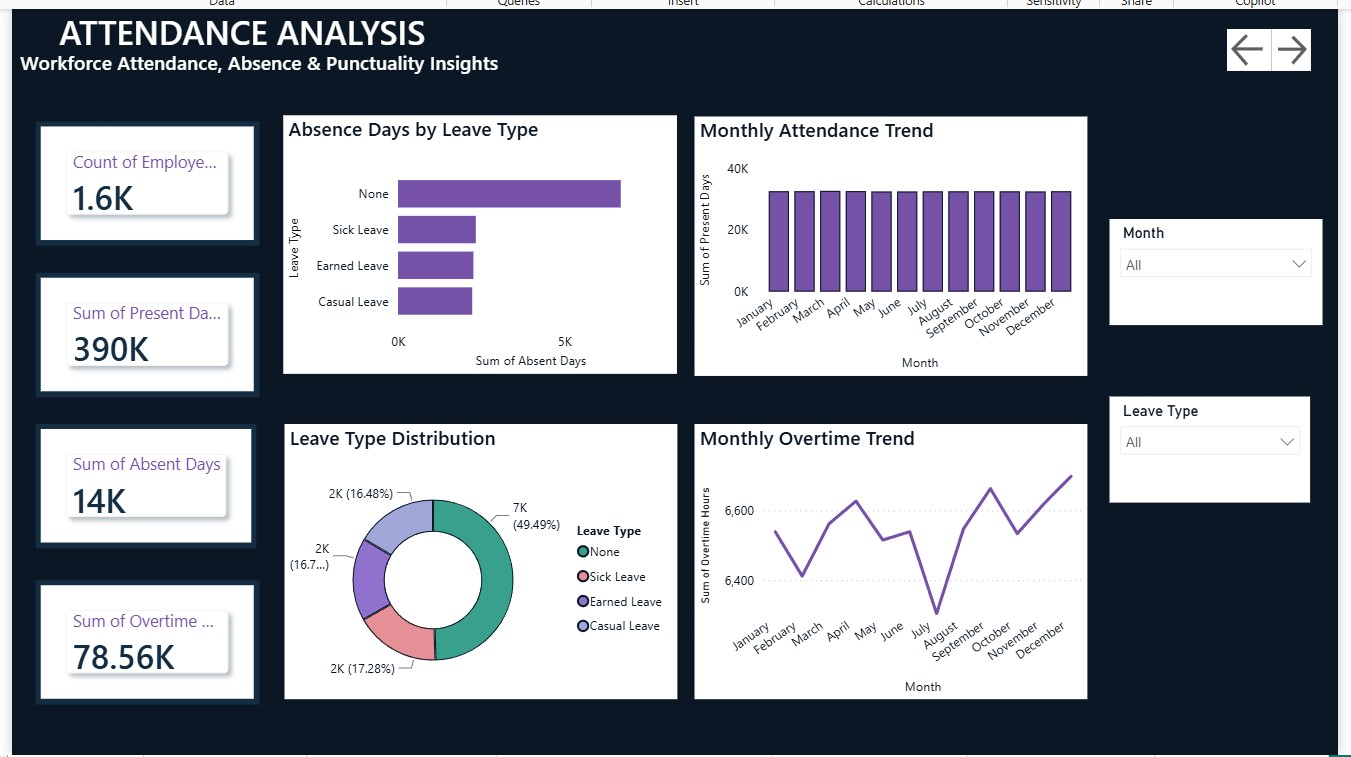

What the dashboard file says about the page in this screenshot:
{"tool":"powerbi","page":{"name":"Attendance Analysis","canvas":[1280,720],"ordinal":5},"visuals":[{"type":"textbox","title":"ATTENDANCE ANALYSIS","box":[29.4,0,386.7,38.3],"z":0},{"type":"textbox","title":"Workforce Attendance, Absence & Punctuality Insights","box":[0,38.3,477.3,26.8],"z":1000},{"type":"cardVisual","fields":{"Data":["Count(Attendance_Raw.Employee ID)"]},"box":[23,108.5,215.7,120],"z":2000},{"type":"cardVisual","fields":{"Data":["Sum(Attendance_Raw.Overtime Hours)"]},"box":[23,551.3,215.7,120],"z":3000},{"type":"cardVisual","fields":{"Data":["Sum(Attendance_Raw.Absent Days)"]},"box":[23,400.7,213.1,120],"z":4000},{"type":"cardVisual","fields":{"Data":["Sum(Attendance_Raw.Present Days)"]},"box":[23,254,215.7,120],"z":5000},{"type":"barChart","title":"Absence Days by Leave Type","fields":{"Y":["Sum(Attendance_Raw.Absent Days)"],"Category":["Attendance_Raw.Leave Type"]},"box":[261.9,103,379.8,249.5],"z":6000},{"type":"clusteredColumnChart","title":"Monthly Attendance Trend","fields":{"Category":["Attendance_Raw.Month.Variation.Date Hierarchy.Month"],"Y":["Sum(Attendance_Raw.Present Days)"]},"box":[658.5,103.4,379,250],"z":7000},{"type":"donutChart","title":"Leave Type Distribution","fields":{"Category":["Attendance_Raw.Leave Type"],"Y":["Sum(Attendance_Raw.Absent Days)"]},"box":[262.9,400.7,379,265.4],"z":8000},{"type":"lineChart","title":"Monthly Overtime Trend","fields":{"Category":["Attendance_Raw.Month.Variation.Date Hierarchy.Month"],"Y":["Sum(Attendance_Raw.Overtime Hours)"]},"box":[658.5,400.7,379,265.4],"z":9000},{"type":"slicer","fields":{"Values":["Attendance_Raw.Month"]},"box":[1059.2,202.9,205.5,102.1],"z":10000},{"type":"slicer","fields":{"Values":["Attendance_Raw.Leave Type"]},"box":[1059.2,373.9,194,102.1],"z":11000},{"type":"actionButton","box":[1216.1,18.8,37.6,40.5],"z":12000},{"type":"actionButton","box":[1172.7,18.8,43.4,40.5],"z":13000}]}

Visuals, with their boxes in screenshot pixels (x1, y1, x2, y2):
"ATTENDANCE ANALYSIS" textbox: bbox=[38, 4, 438, 43]
"Workforce Attendance, Absence & Punctuality Insights" textbox: bbox=[7, 43, 502, 71]
cardVisual - Count(Attendance_Raw.Employee ID): bbox=[31, 116, 254, 240]
cardVisual - Sum(Attendance_Raw.Overtime Hours): bbox=[31, 575, 254, 699]
cardVisual - Sum(Attendance_Raw.Absent Days): bbox=[31, 419, 252, 543]
cardVisual - Sum(Attendance_Raw.Present Days): bbox=[31, 267, 254, 391]
"Absence Days by Leave Type" barChart: bbox=[278, 110, 672, 369]
"Monthly Attendance Trend" clusteredColumnChart: bbox=[689, 111, 1082, 370]
"Leave Type Distribution" donutChart: bbox=[279, 419, 672, 694]
"Monthly Overtime Trend" lineChart: bbox=[689, 419, 1082, 694]
slicer - Attendance_Raw.Month: bbox=[1104, 214, 1317, 320]
slicer - Attendance_Raw.Leave Type: bbox=[1104, 391, 1305, 497]
actionButton: bbox=[1267, 23, 1306, 65]
actionButton: bbox=[1222, 23, 1267, 65]
